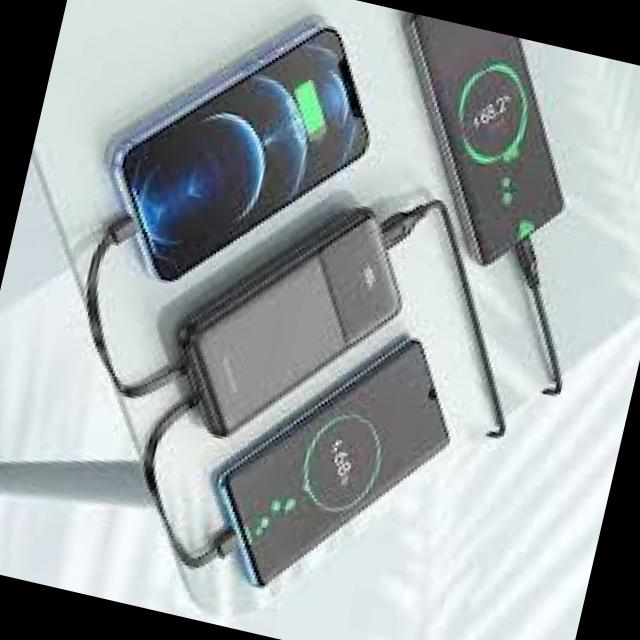portable-charger: (148, 172, 421, 476)
